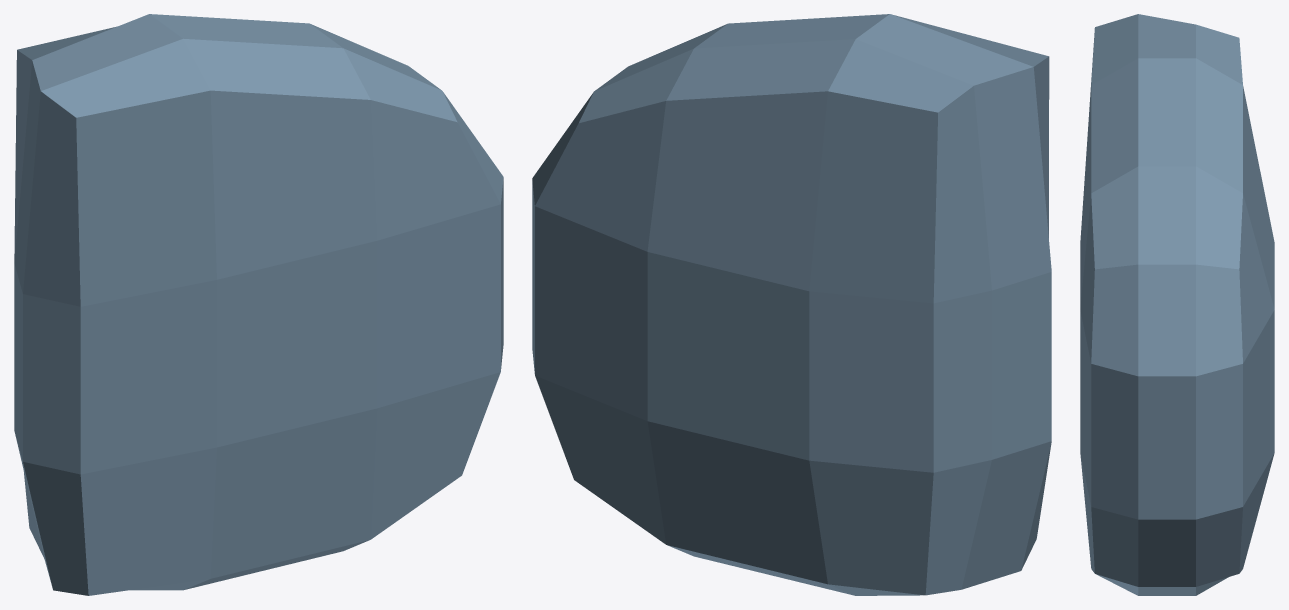
Rendered from Iron Ore.fbx.
The picture shows the model from 3 angles, left to right: view 1: azimuth 30°, elevation 25°; view 2: azimuth 150°, elevation 25°; view 3: azimuth 270°, elevation 25°; orthographic projection. The views are drawn at different scales.
Parts seen in each view (by area): view 1: Iron Ore; view 2: Iron Ore; view 3: Iron Ore.
Boxes of the visible parts, x1,y1,x2,y2 form: Iron Ore: [14, 14, 503, 595]; Iron Ore: [532, 14, 1051, 595]; Iron Ore: [1080, 14, 1274, 595].
Size of the model in its own units: 2 by 0.8201 by 2.19.
